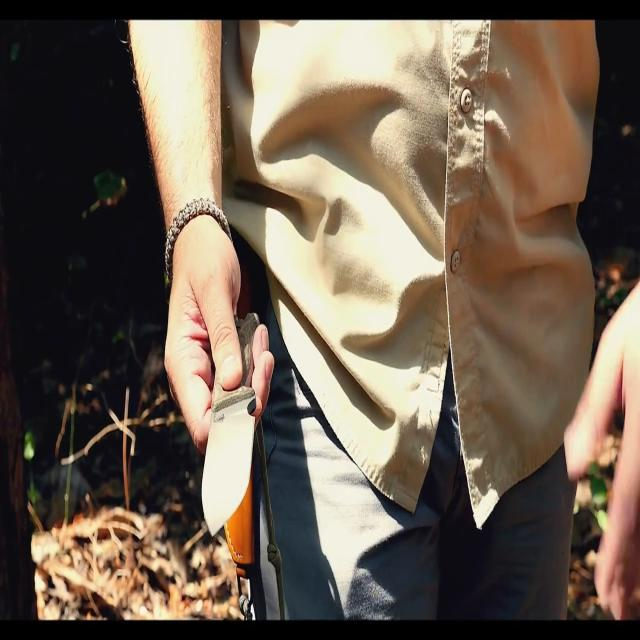knife: (203, 351, 258, 543)
